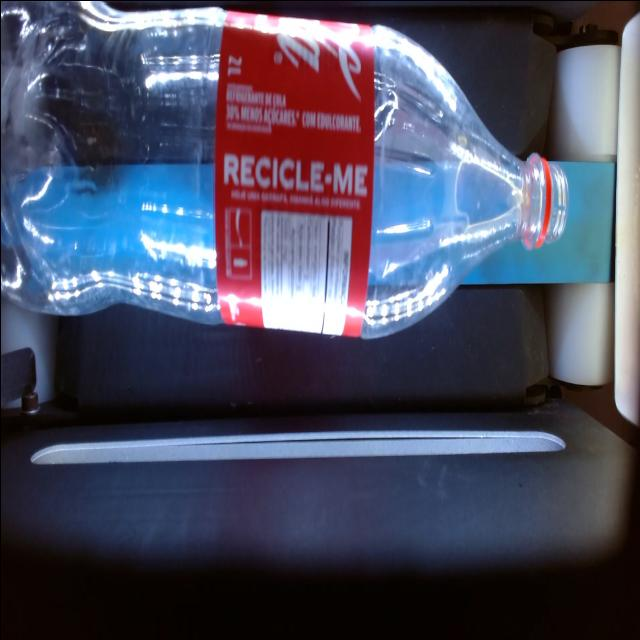bottom: (0, 3, 224, 322)
label: (213, 11, 374, 335)
neck: (360, 24, 567, 336)
